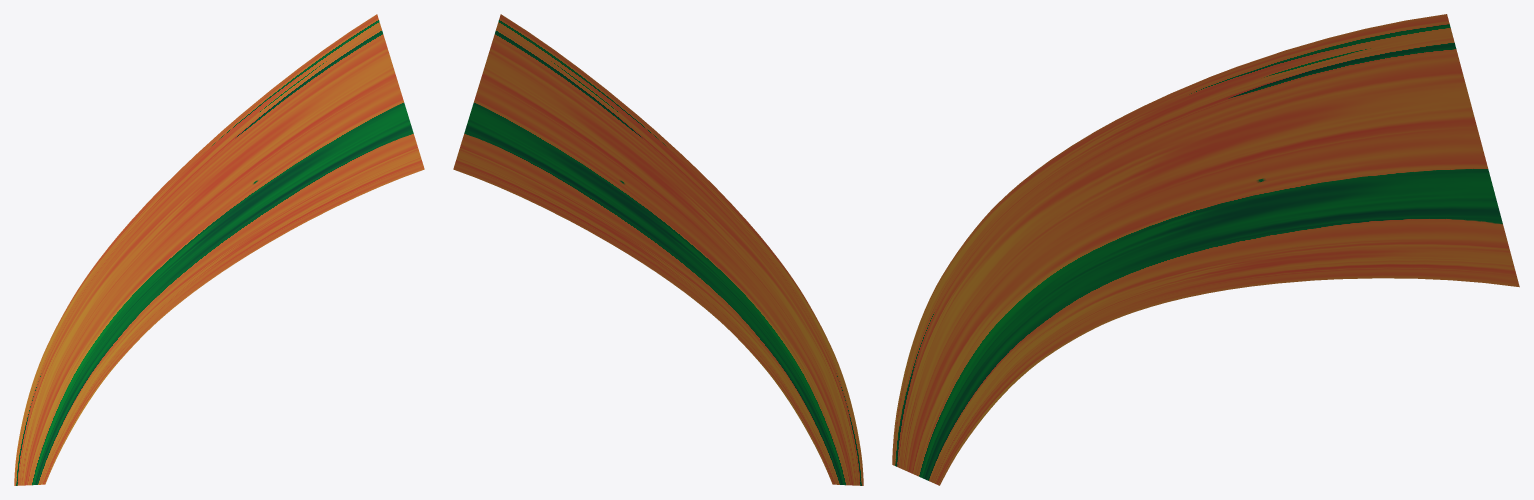
The model's file is p_trashbot_start_sprinkler02.fbx.
3 renders of one model, left to right at view 1: azimuth 30°, elevation 25°; view 2: azimuth 150°, elevation 25°; view 3: azimuth 330°, elevation 25°, orthographic. The views are drawn at different scales.
Parts seen in each view (by area): view 1: p_sprinkler_start_plane_02; view 2: p_sprinkler_start_plane_02; view 3: p_sprinkler_start_plane_02.
Part boxes in pixels (<box>): p_sprinkler_start_plane_02: <box>14,14,424,485</box>; p_sprinkler_start_plane_02: <box>453,14,863,485</box>; p_sprinkler_start_plane_02: <box>892,14,1519,485</box>.
Size of the model in its own units: 5.29 by 4.8 by 3.86e-07.
